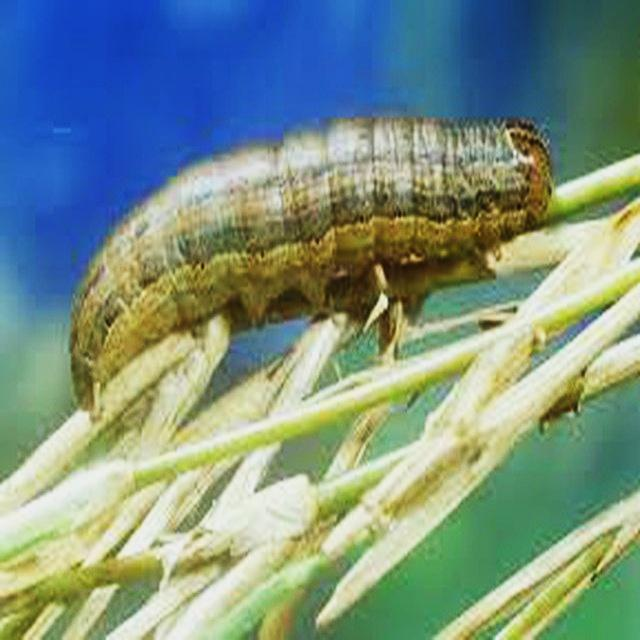gusano_cogollero: (65, 109, 562, 423)
